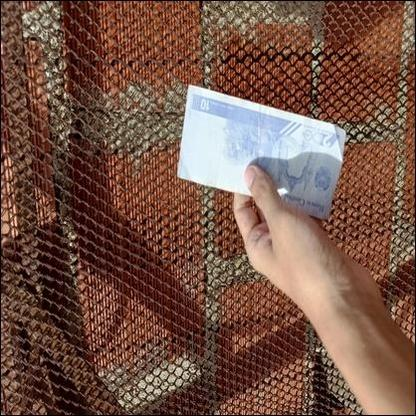ten-back-vef: (176, 84, 347, 216)
